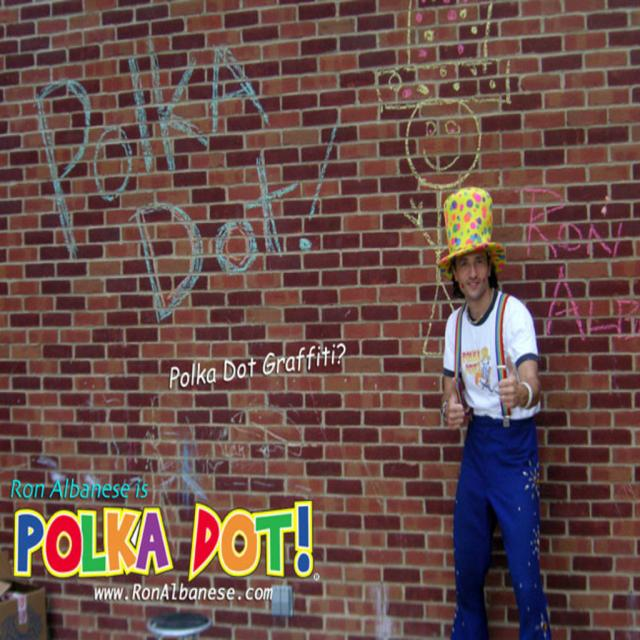Hat: (434, 184, 504, 275)
